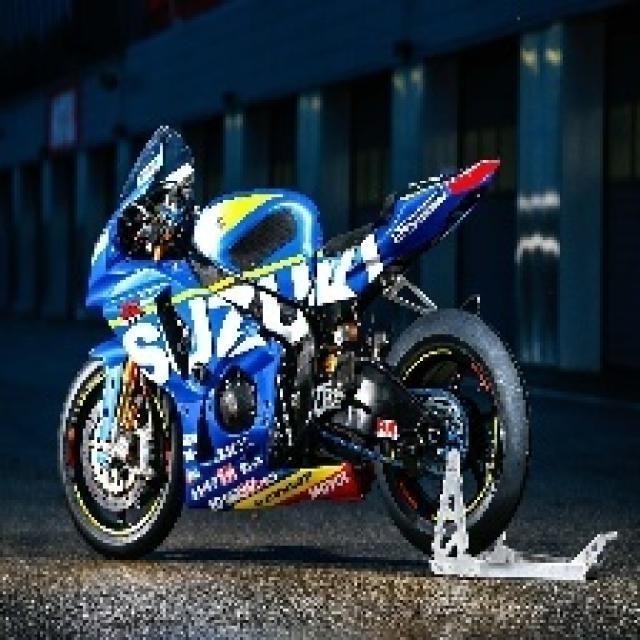motorace: (47, 68, 597, 603)
